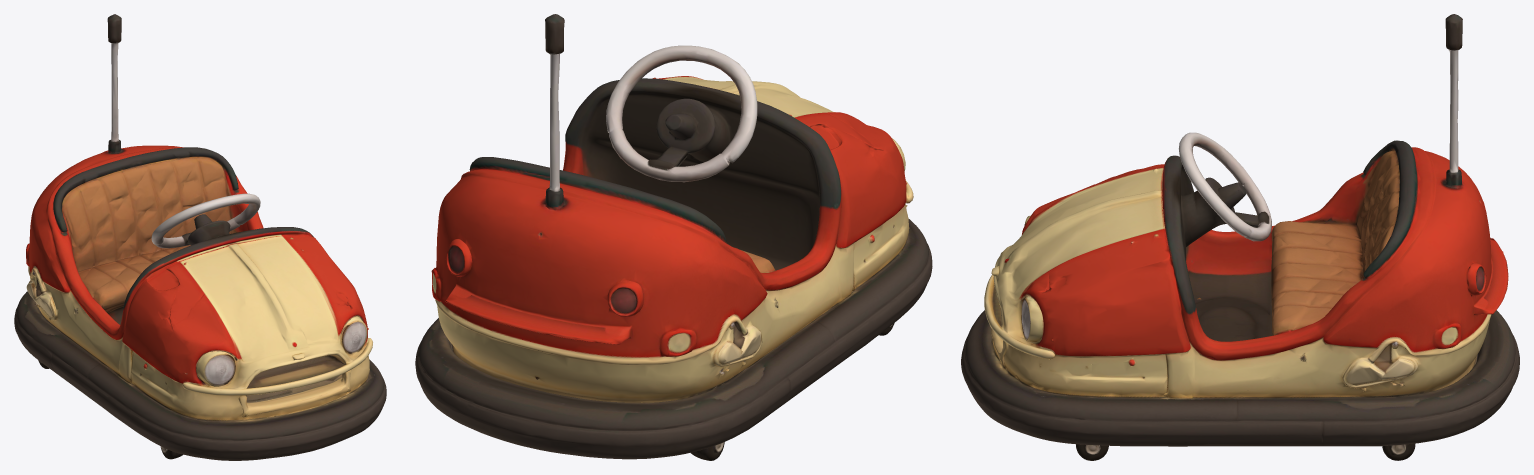
The model's file is 7410209e-ca4c-413b-a326-2595ab89551d-pbr_model.glb.
3 renders of one model, left to right at view 1: azimuth 30°, elevation 25°; view 2: azimuth 150°, elevation 25°; view 3: azimuth 270°, elevation 25°, orthographic. The views are drawn at different scales.
Visible parts, largest first — view 1: tripo_node_7410209e-ca4c-413b-a326-2595ab89551d; view 2: tripo_node_7410209e-ca4c-413b-a326-2595ab89551d; view 3: tripo_node_7410209e-ca4c-413b-a326-2595ab89551d.
Boxes of the visible parts, x1=… form: tripo_node_7410209e-ca4c-413b-a326-2595ab89551d: x1=14, y1=14, x2=386, y2=460; tripo_node_7410209e-ca4c-413b-a326-2595ab89551d: x1=415, y1=14, x2=932, y2=460; tripo_node_7410209e-ca4c-413b-a326-2595ab89551d: x1=961, y1=14, x2=1519, y2=460.
Size of the model in its own units: 0.5842 by 0.75 by 0.9721.
1 material, 1 textured.
